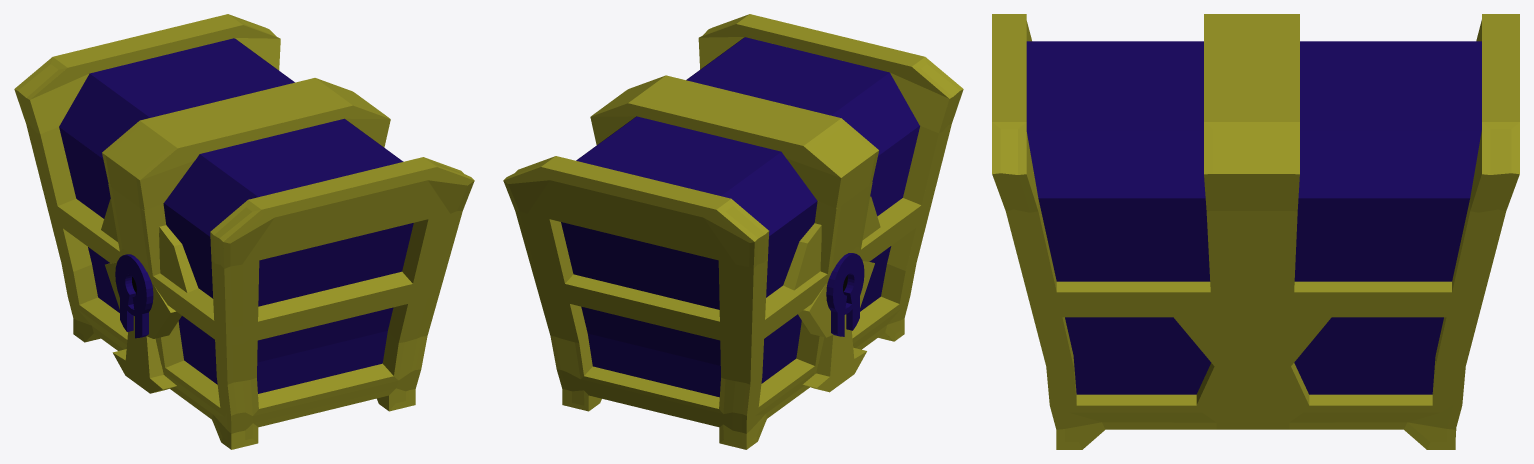
The model's file is CoffreFerme.fbx.
3 views of the same model, side by side, from view 1: azimuth 30°, elevation 25°; view 2: azimuth 150°, elevation 25°; view 3: azimuth 270°, elevation 25° (orthographic). The views are drawn at different scales.
Visible parts, largest first — view 1: Chest mode 1; view 2: Chest mode 1; view 3: Chest mode 1.
Boxes of the visible parts, x1,y1,x2,y2 form: Chest mode 1: [14, 14, 474, 449]; Chest mode 1: [503, 14, 963, 449]; Chest mode 1: [992, 14, 1519, 449].
Bounding box in the file's own units: 323 × 315 × 464.
